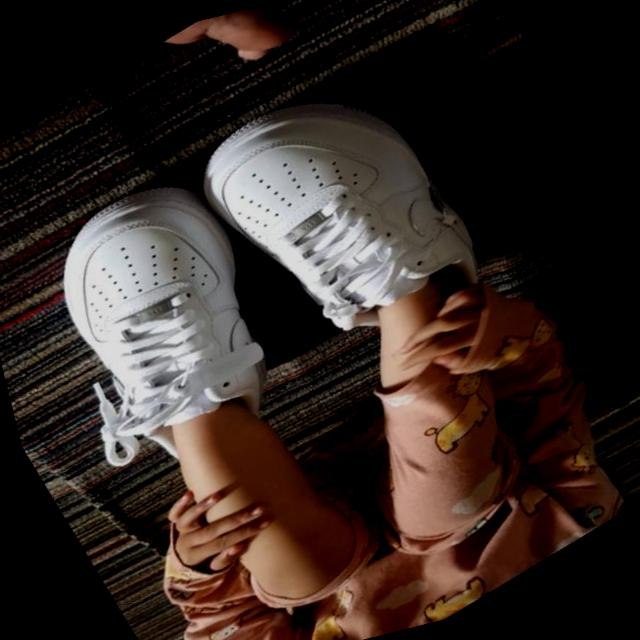nike_original_airforce: (166, 28, 514, 393), (17, 142, 334, 494)
